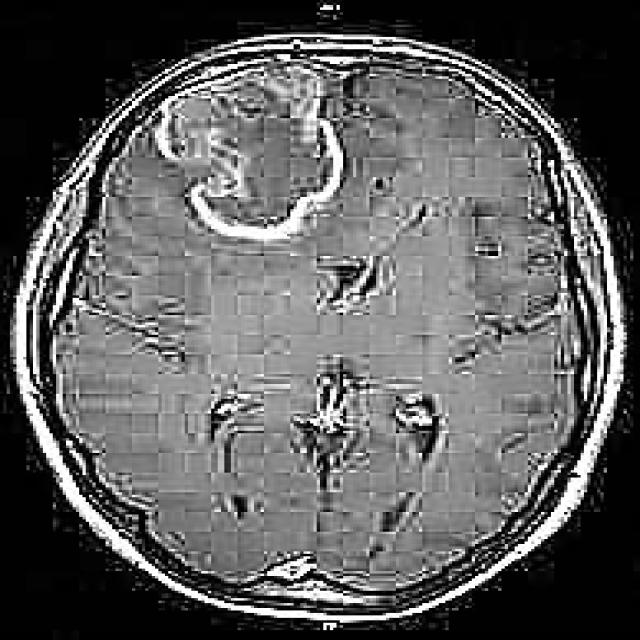Tumor-Cell: (140, 74, 358, 236)
